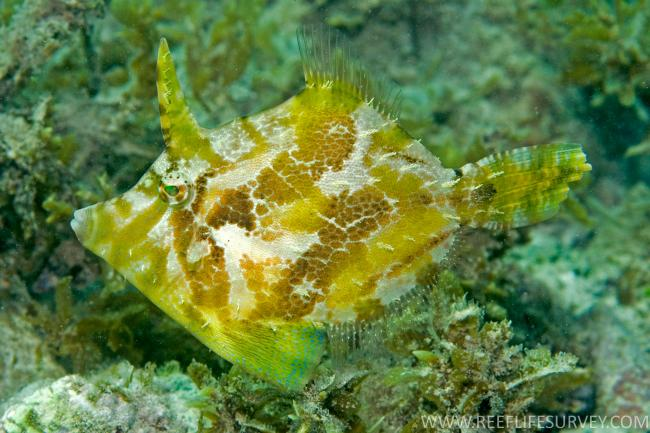fish: (71, 26, 592, 393)
